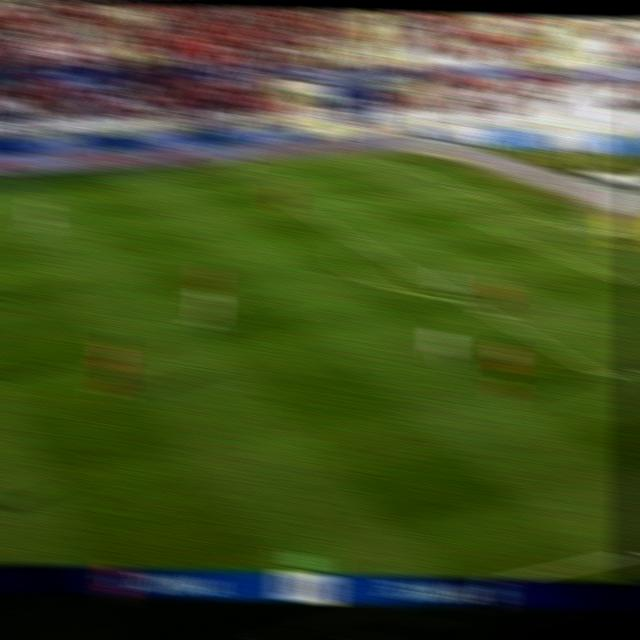bigarea_bottom_inner: (589, 359, 623, 387)
bigarea_top_inner: (281, 195, 309, 213)
bigarea_top_outter: (452, 179, 479, 196)
bottom_arc_area_intersection: (450, 288, 478, 306)
corner: (381, 153, 410, 167)
smallarea_top_inner: (472, 213, 499, 230)
smallarea_top_outter: (527, 206, 556, 223)
top_arc_area_intersection: (346, 231, 374, 249)
